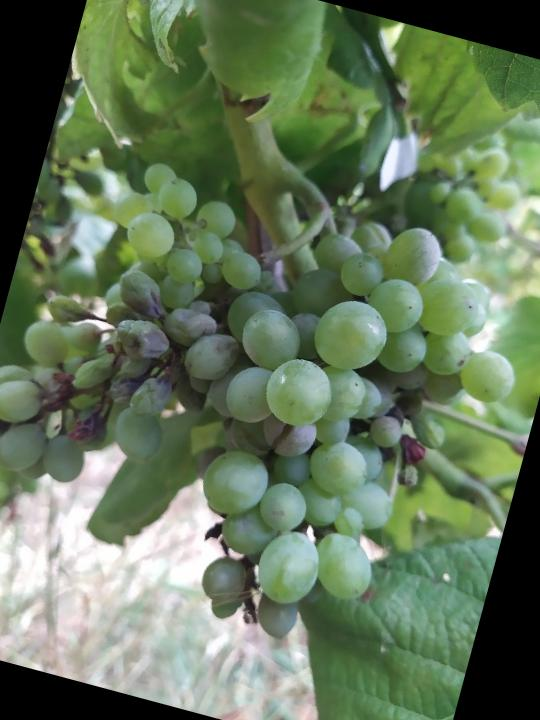grape: (0, 129, 540, 686)
